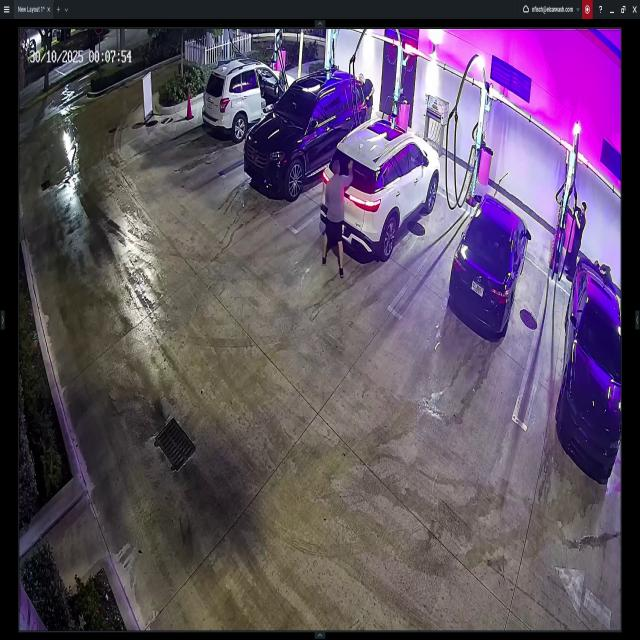Car: (324, 116, 439, 258), (245, 72, 365, 194), (556, 261, 623, 475), (451, 191, 530, 339), (201, 60, 298, 138)
